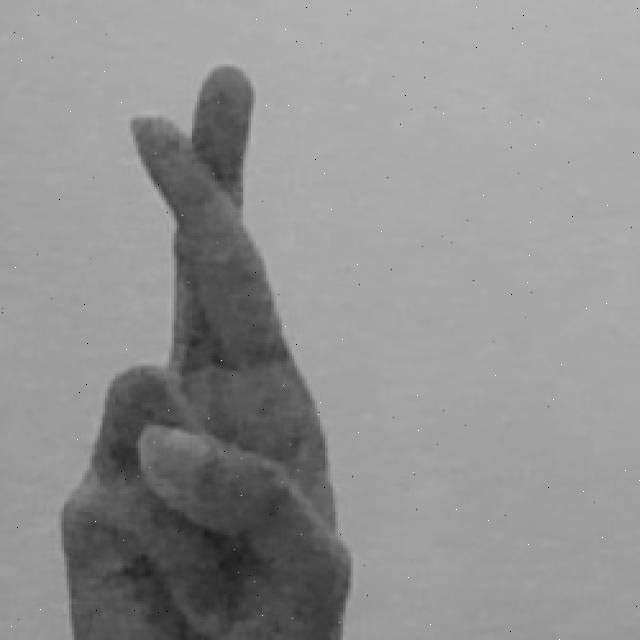R: (59, 61, 356, 636)
